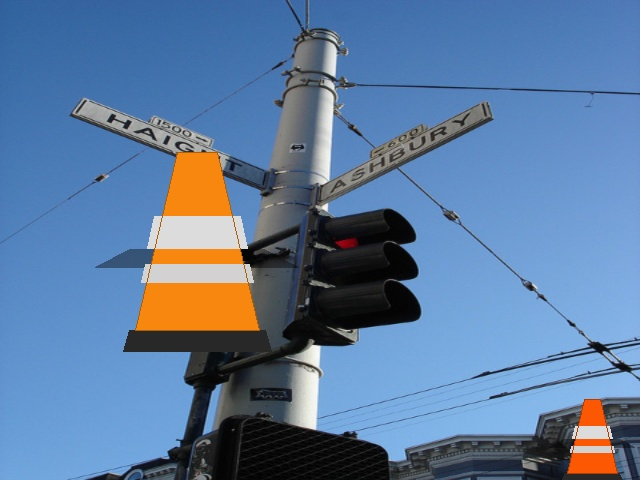traffic-cone: (123, 152, 271, 351), (562, 399, 622, 479)
